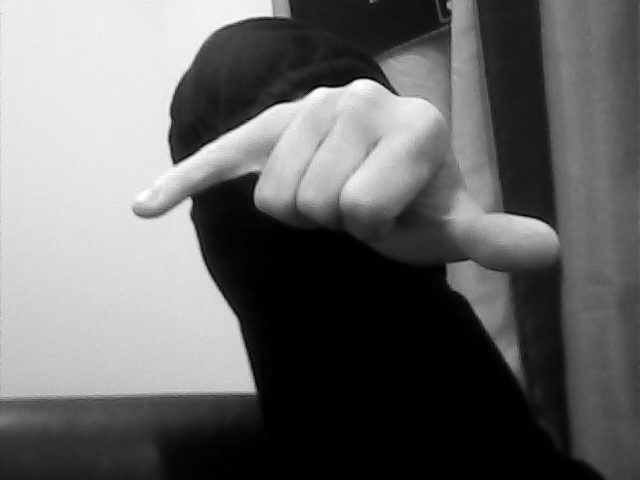aloha: (130, 73, 563, 277)
